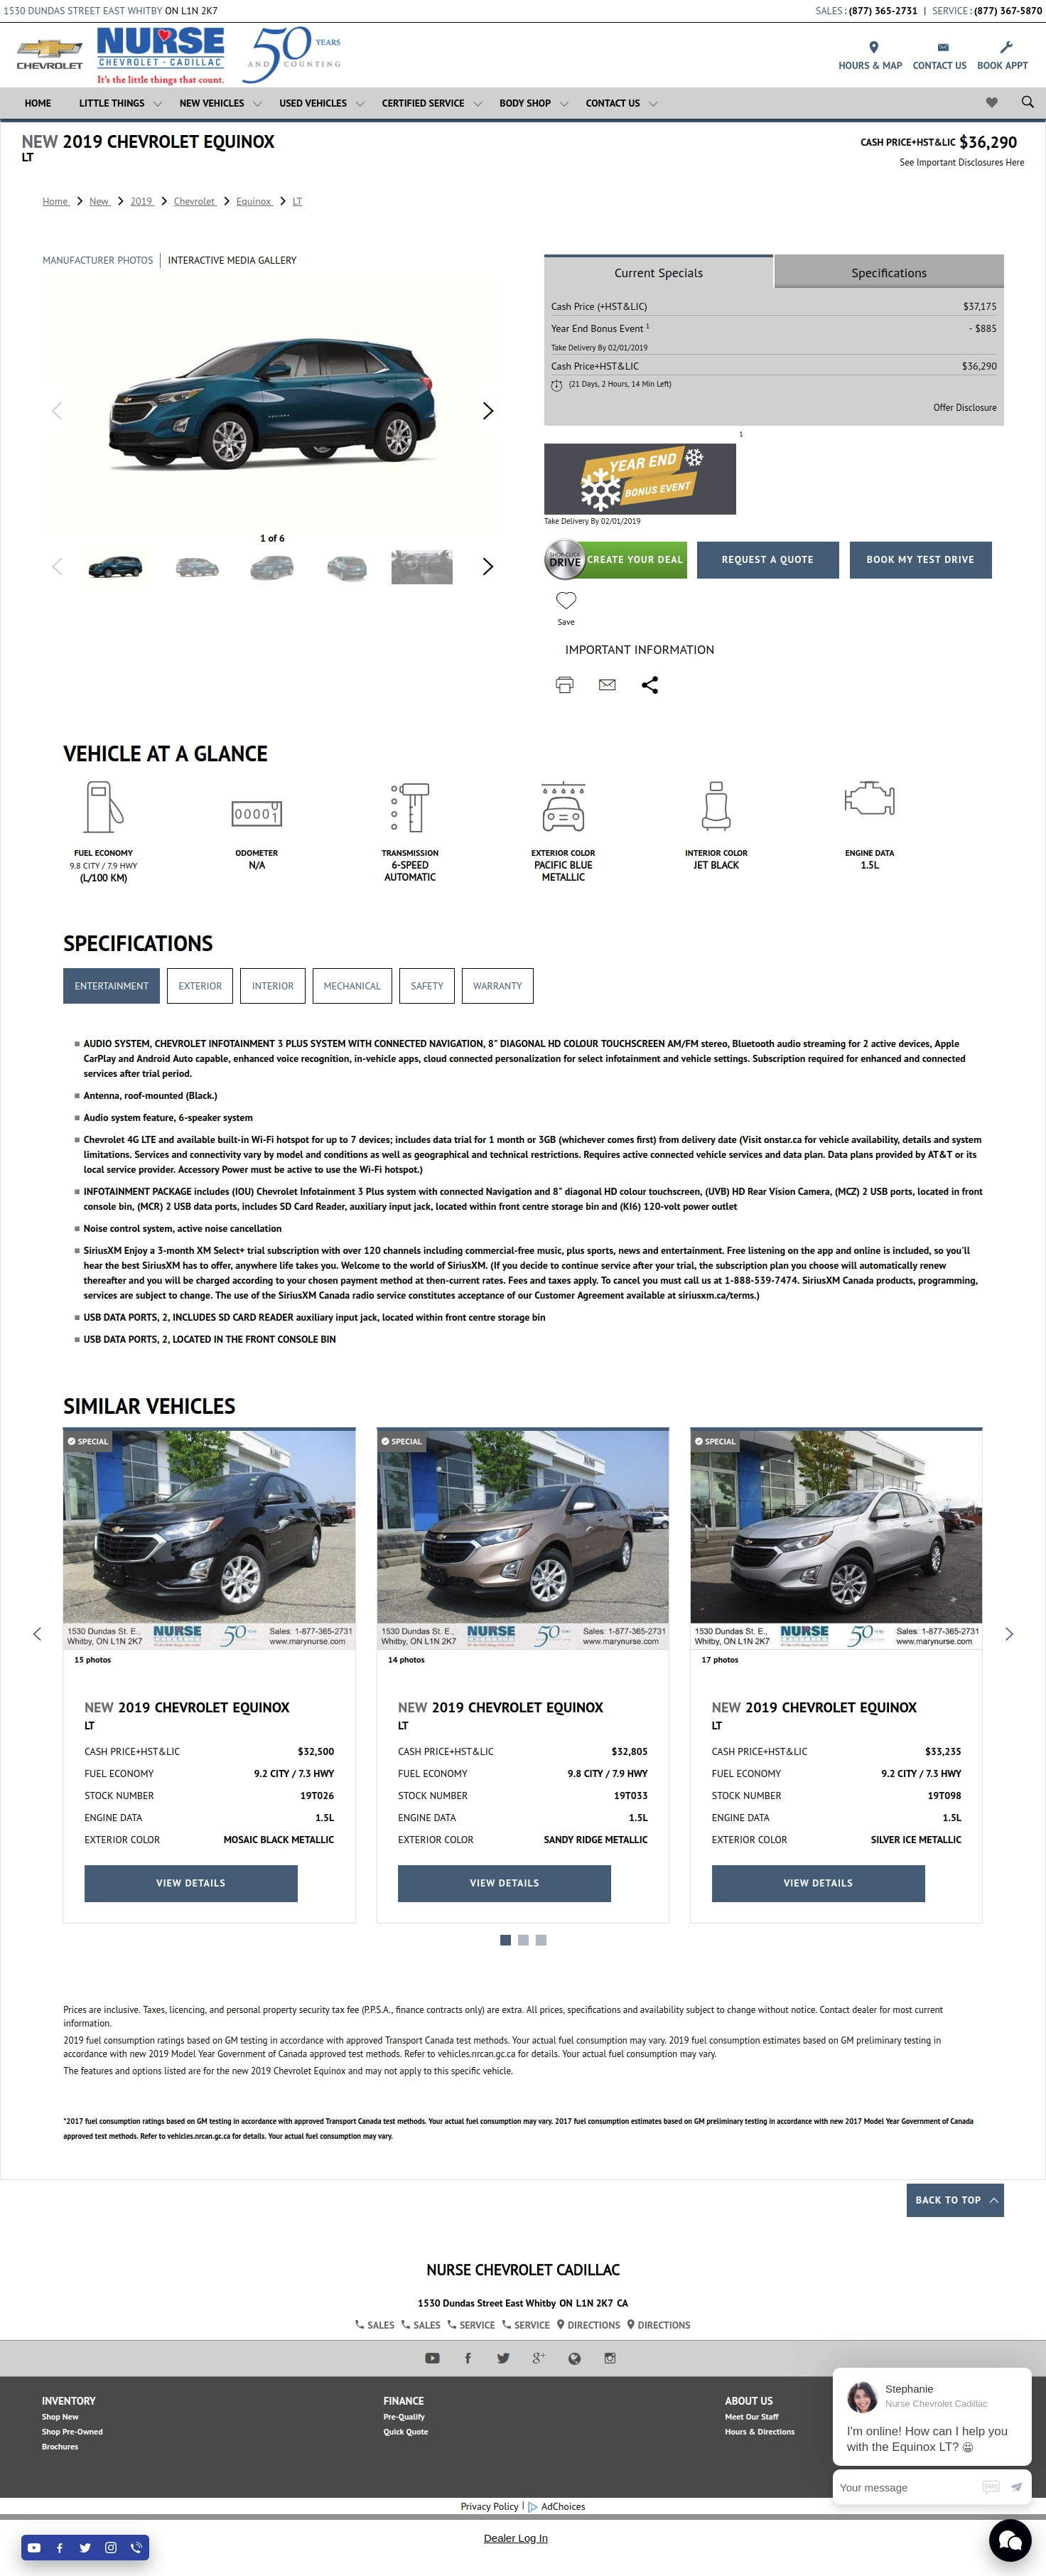car: (483, 557, 496, 577)
